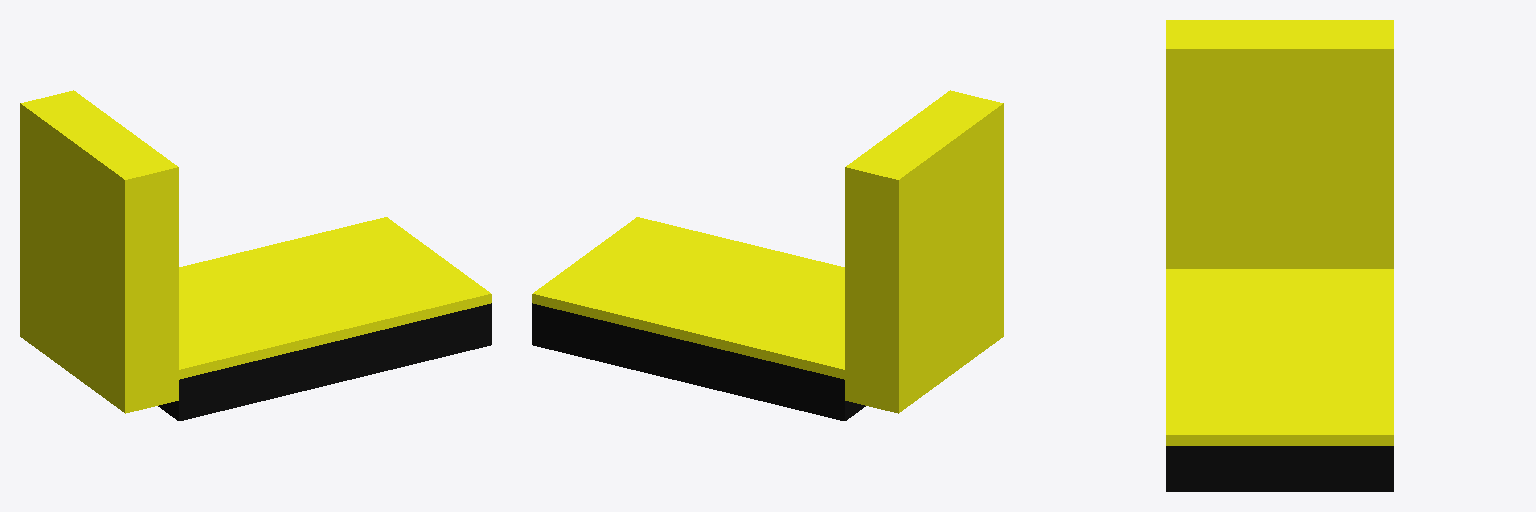
URDF robot description (schunk_egk40_magneto):
<robot name="schunk_egk40_magneto">
    <link name="base_link">
        <visual>
            <origin rpy="0 0 0" xyz="0 0 0"/>
            <geometry>
                <box size="0.117 0.068 0.015"/>
            </geometry>
            <material name="">
                <color rgba="0.1 0.1 0.1 1"/>
            </material>
        </visual>
        <collision>
            <origin rpy="0 0 0" xyz="0 0 0.0"/>
            <geometry>
                <box size="0.117 0.068 0.015"/>
            </geometry>
        </collision>
    </link>
    <link name="camera_mount_plate">
        <visual>
            <origin rpy="0 0 0" xyz="0 0 0"/>
            <geometry>
                <box size="0.117 0.068 0.0035"/>
            </geometry>
            <material name="">
                <color rgba="1 1 0.1 1"/>
            </material>
        </visual>
        <collision>
            <origin rpy="0 0 0" xyz="0 0 0.0"/>
            <geometry>
                <box size="0.117 0.068 0.0035"/>
            </geometry>
        </collision>
    </link>
    <link name="pcb_mount_plate">
        <visual>
            <origin rpy="0 0 0" xyz="0 0 0"/>
            <geometry>
                <box size="0.02 0.068 0.0835"/>
            </geometry>
            <material name="">
                <color rgba="1 1 0.1 1"/>
            </material>
        </visual>
        <collision>
            <origin rpy="0 0 0" xyz="0 0 0.0"/>
            <geometry>
                <box size="0.02 0.068 0.0835"/>
            </geometry>
        </collision>
    </link>
    <link name="base_link_gripper">
        <inertial>
            <origin rpy="0 0 0" xyz="0 0 0"/>
            <mass value="1.02"/>
        </inertial>
        <visual>
            <origin rpy="0 0 0" xyz="0 0 0"/>
            <geometry>
                <mesh filename="../schunk_egk40/meshes/EGK40-MB-M-B.obj"/>
            </geometry>
            <material name="">
                <color rgba="0.1 0.1 0.1 1"/>
            </material>
        </visual>
        <collision>
            <origin rpy="0 0 0" xyz="0 0 0.0418"/>
            <geometry>
                <box size="0.117 0.068 0.0835"/>
            </geometry>
        </collision>
        <collision>
            <origin rpy="0 0 0" xyz="0.06 0 0.03"/>
            <geometry>
                <box size="0.04 0.04 0.04"/>
            </geometry>
        </collision>
    </link>

    <link name="right_magneto_finger">
        <inertial>
            <origin rpy="0 0 0" xyz="0 0 0"/>
            <mass value="0.02"/>
        </inertial>
        <visual>
            <origin rpy="0 0 0" xyz="0 0 0"/>
            <geometry>
                <mesh filename="../fingertips/meshes/magneto_finger.obj"/>
            </geometry>
            <material name="">
                <color rgba="0.1 0.1 0.1 1"/>
            </material>
        </visual>
        <collision>
            <origin rpy="0 0 0" xyz="0.034 -0.0155 0.0345"/>
            <geometry>
                <box size="0.025 0.025 0.055"/>
            </geometry>
        </collision>
    </link>

    <link name="left_magneto_finger">
        <inertial>
            <origin rpy="0 0 0" xyz="0 0 0"/>
            <mass value="0.02"/>
        </inertial>
        <visual>
            <origin rpy="0 0 0" xyz="0 0 0"/>
            <geometry>
                <mesh filename="../fingertips/meshes/magneto_finger.obj"/>
            </geometry>
            <material name="">
                <color rgba="0.1 0.1 0.1 1"/>
            </material>
        </visual>
        <collision>
            <origin rpy="0 0 0" xyz="0.034 -0.0155 0.0345"/>
            <geometry>
                <box size="0.025 0.025 0.055"/>
            </geometry>
        </collision>
    </link>

    <joint name="base_link_to_camera_mount_plate" type="fixed">
        <parent link="base_link"/>
        <child link="camera_mount_plate"/>
        <origin xyz="0 0 0.00925"/>
    </joint>

    <joint name="base_link_to_pcb_mount_plate" type="fixed">
        <parent link="base_link"/>
        <child link="pcb_mount_plate"/>
        <origin xyz="-0.0685 0 0.04175"/>
    </joint>

    <joint name="base_link_gripper_joint" type="fixed">
        <parent link="camera_mount_plate"/>
        <child link="base_link_gripper"/>
        <origin xyz="0 0 0.00175"/>
    </joint>

    <link name="right_finger_mount"/>
    <joint name="right_finger_mount_joint" type="prismatic">
        <parent link="base_link_gripper"/>
        <child link="right_finger_mount"/>
        <origin xyz="0.0155 0.01711 0.0835" rpy="0 0 0"/>
        <axis xyz="1 0 0"/>
        <limit lower="-0.05" upper="0" effort="10" velocity="0.1"/>
    </joint>

    <link name="left_finger_mount"/>
    <joint name="left_finger_mount_joint" type="prismatic">
        <parent link="base_link_gripper"/>
        <child link="left_finger_mount"/>
        <origin xyz="-0.0155 -0.01711 0.0835" rpy="0 0 0"/>
        <axis xyz="1 0 0"/>
        <limit lower="-0" upper="0.05" effort="10" velocity="0.1"/>
    </joint>

    <joint name="right_finger_mount_to_tip" type="fixed">
        <parent link="right_finger_mount"/>
        <child link="right_magneto_finger"/>
        <origin xyz="0 0 0" rpy="0 0 0"/>
    </joint>

    <joint name="left_finger_mount_to_tip" type="fixed">
        <parent link="left_finger_mount"/>
        <child link="left_magneto_finger"/>
        <origin xyz="0 0 0" rpy="0 0 3.14"/>
    </joint>
</robot>

--- Render facts (derived) ---
3 views of the same robot in one strip: view 1: azimuth 30°, elevation 25°; view 2: azimuth 150°, elevation 25°; view 3: azimuth 270°, elevation 25° (orthographic).
Model schunk_egk40_magneto with 8 links and 7 joints (2 prismatic, 5 fixed), rooted at base_link, posed all joints at 0.
Visible links, largest first — view 1: pcb_mount_plate, camera_mount_plate, base_link; view 2: pcb_mount_plate, camera_mount_plate, base_link; view 3: pcb_mount_plate, camera_mount_plate, base_link.
Link boxes in pixels (x1=…): pcb_mount_plate: x1=20, y1=90, x2=178, y2=413; camera_mount_plate: x1=179, y1=217, x2=491, y2=379; base_link: x1=158, y1=303, x2=491, y2=420; pcb_mount_plate: x1=845, y1=90, x2=1003, y2=413; camera_mount_plate: x1=532, y1=217, x2=844, y2=379; base_link: x1=532, y1=303, x2=865, y2=420; pcb_mount_plate: x1=1166, y1=20, x2=1393, y2=268; camera_mount_plate: x1=1166, y1=269, x2=1393, y2=445; base_link: x1=1166, y1=446, x2=1393, y2=491.
Size in the robot's own frame: 0.137 by 0.068 by 0.091 metres.
Meshes: 2 distinct files referenced, 0 mesh visuals loaded (none loaded); not drawn: 3 (reference not matched to a file when rendering).